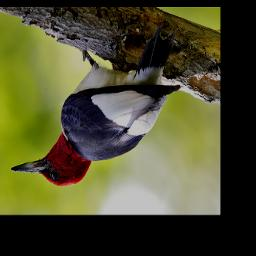Woodpecker: (12, 25, 181, 185)
